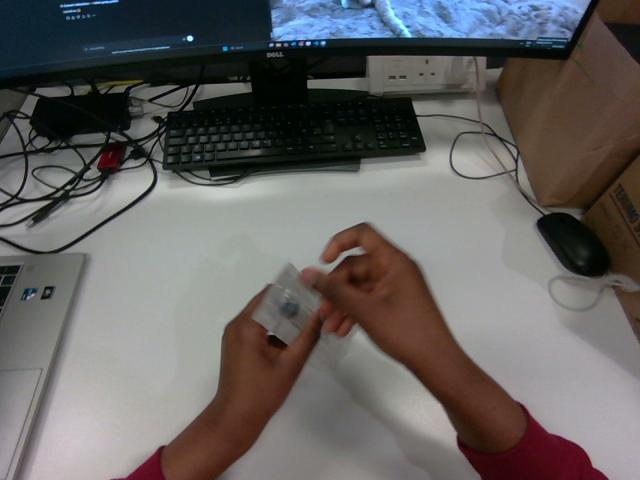syringe: (253, 264, 320, 344)
